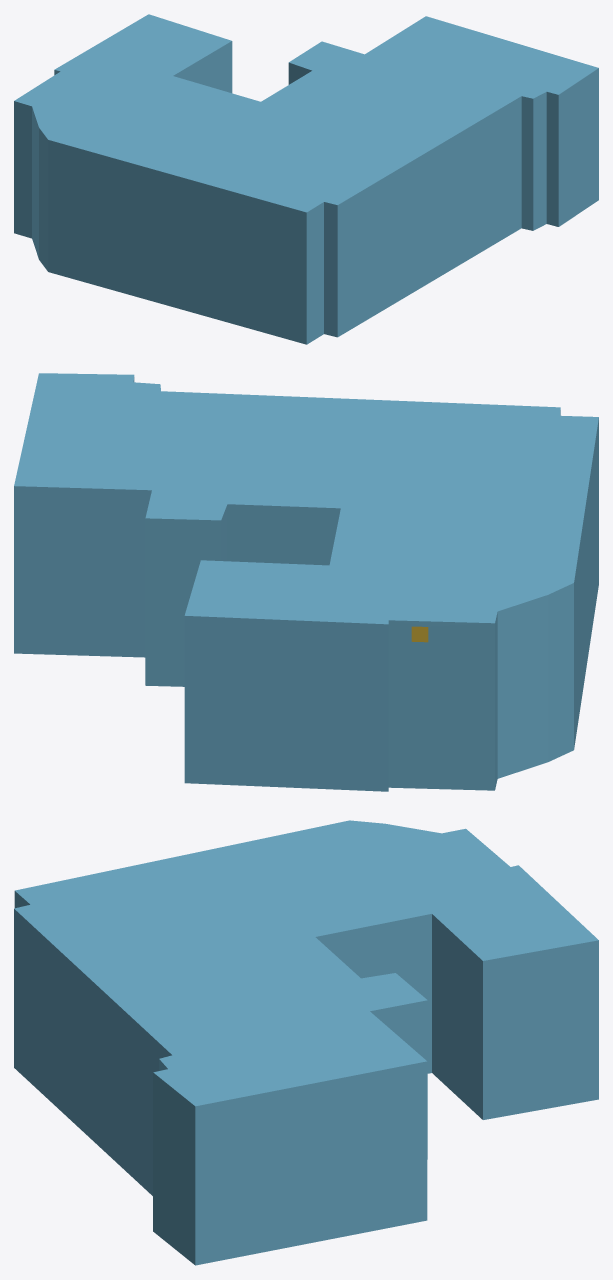
File: bldg_85d560b2-9202-4d44-a957-980e249e2992.obj
The picture shows the model from 3 angles, top to bottom: view 1: azimuth 30°, elevation 25°; view 2: azimuth 150°, elevation 25°; view 3: azimuth 270°, elevation 25°; orthographic projection. The views are drawn at different scales.
Bounding box in the file's own units: 31.05 × 8.06 × 26.85.
